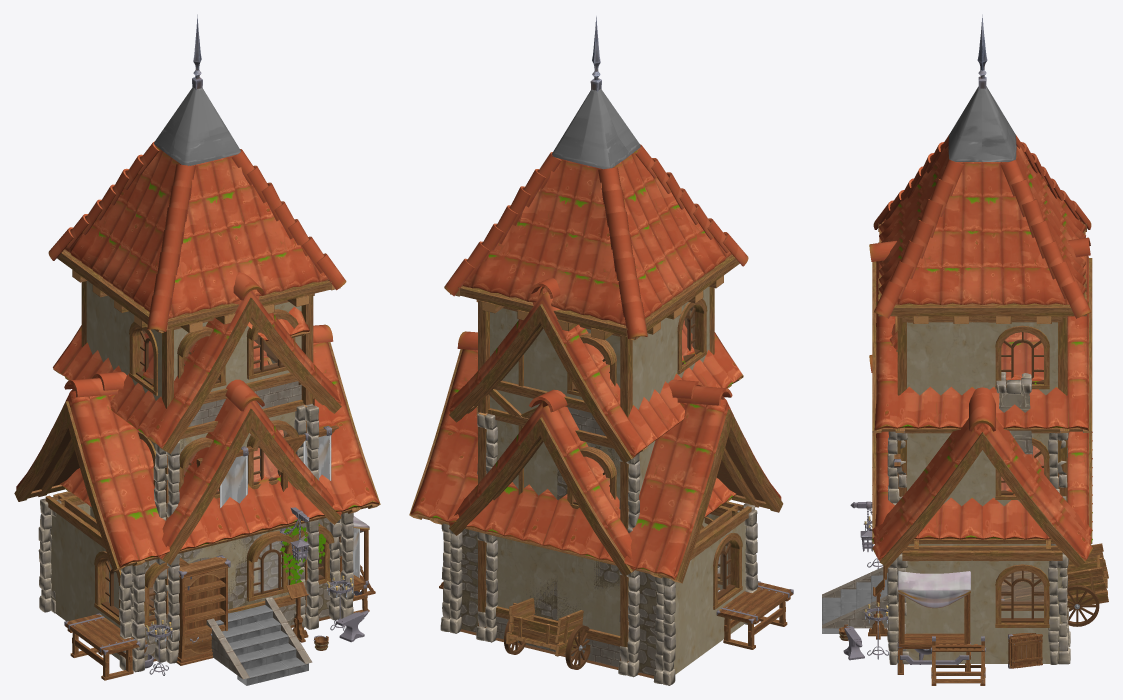
Rendered from village.glb.
3 views of the same model, side by side, from view 1: azimuth 30°, elevation 25°; view 2: azimuth 150°, elevation 25°; view 3: azimuth 270°, elevation 25° (orthographic). The views are drawn at different scales.
Parts seen in each view (by area): view 1: Roof_Tower_RoundTiles, Roof_RoundTiles_4x6, Roof_RoundTiles_4x4 (×2), Corner_Exterior_Brick (×7), Window_Wide_Round1 (×9), Wall_Plaster_Window_Wide_Round (×5), Stairs_Exterior_Straight, Wall_UnevenBrick_Straight, Bookcase_2, Wall_UnevenBrick_Window_Wide_Round (×3), Workbench, Wall_Plaster_Straight (+8 smaller); view 2: Roof_Tower_RoundTiles, Roof_RoundTiles_4x6, Roof_RoundTiles_4x4 (×2), Corner_Exterior_Brick (×7), Wall_Plaster_Straight (×3), Wall_Plaster_Straight_Base (×2), Wall_UnevenBrick_Straight (×4), Window_Wide_Round1 (×4), Prop_Wagon, Wall_UnevenBrick_Window_Wide_Round (×2), Wall_Plaster_Window_Wide_Round (×3), Corner_Exterior_Wood (×4) (+1 smaller); view 3: Roof_Tower_RoundTiles, Roof_RoundTiles_4x4 (×2), Roof_RoundTiles_4x6, Wall_Plaster_Straight (×2), Wall_UnevenBrick_Window_Wide_Round (×3), Wall_UnevenBrick_Straight, Corner_Exterior_Brick (×4), Window_Wide_Round1 (×4), Stall_Empty, Prop_Wagon, Stairs_Exterior_Straight, Wall_Plaster_Window_Wide_Round (+7 smaller).
Boxes of the visible parts, x1=… form: Roof_Tower_RoundTiles: x1=48, y1=14, x2=346, y2=332; Roof_RoundTiles_4x6: x1=14, y1=324, x2=380, y2=571; Roof_RoundTiles_4x4 (×2): x1=53, y1=272, x2=341, y2=564; Corner_Exterior_Brick (×7): x1=38, y1=403, x2=353, y2=672; Window_Wide_Round1 (×9): x1=94, y1=309, x2=334, y2=626; Wall_Plaster_Window_Wide_Round (×5): x1=124, y1=300, x2=304, y2=625; Stairs_Exterior_Straight: x1=206, y1=596, x2=312, y2=685; Wall_UnevenBrick_Straight: x1=45, y1=493, x2=96, y2=621; Bookcase_2: x1=176, y1=555, x2=230, y2=665; Wall_UnevenBrick_Window_Wide_Round (×3): x1=85, y1=518, x2=330, y2=659; Workbench: x1=64, y1=613, x2=140, y2=680; Wall_Plaster_Straight: x1=86, y1=281, x2=124, y2=372; Roof_Tower_RoundTiles: x1=444, y1=16, x2=748, y2=339; Roof_RoundTiles_4x6: x1=409, y1=331, x2=783, y2=583; Roof_RoundTiles_4x4 (×2): x1=448, y1=278, x2=743, y2=576; Corner_Exterior_Brick (×7): x1=440, y1=412, x2=757, y2=685; Wall_Plaster_Straight (×3): x1=486, y1=306, x2=670, y2=499; Wall_Plaster_Straight_Base (×2): x1=496, y1=536, x2=620, y2=667; Wall_UnevenBrick_Straight (×4): x1=460, y1=529, x2=710, y2=675; Window_Wide_Round1 (×4): x1=567, y1=298, x2=742, y2=609; Prop_Wagon: x1=504, y1=598, x2=590, y2=669; Wall_UnevenBrick_Window_Wide_Round (×2): x1=557, y1=430, x2=751, y2=651; Wall_Plaster_Window_Wide_Round (×3): x1=557, y1=286, x2=709, y2=500; Corner_Exterior_Wood (×4): x1=478, y1=300, x2=632, y2=662; Roof_Tower_RoundTiles: x1=873, y1=14, x2=1091, y2=323; Roof_RoundTiles_4x4 (×2): x1=869, y1=237, x2=1092, y2=543; Roof_RoundTiles_4x6: x1=872, y1=387, x2=1092, y2=567; Wall_Plaster_Straight (×2): x1=902, y1=316, x2=982, y2=506; Wall_UnevenBrick_Window_Wide_Round (×3): x1=982, y1=431, x2=1062, y2=663; Wall_UnevenBrick_Straight: x1=902, y1=545, x2=982, y2=663; Corner_Exterior_Brick (×4): x1=887, y1=431, x2=1070, y2=664; Window_Wide_Round1 (×4): x1=995, y1=325, x2=1049, y2=627; Stall_Empty: x1=897, y1=571, x2=971, y2=674; Prop_Wagon: x1=1001, y1=543, x2=1108, y2=626; Stairs_Exterior_Straight: x1=822, y1=567, x2=887, y2=633; Wall_Plaster_Window_Wide_Round: x1=982, y1=316, x2=1062, y2=395.
Size of the model in its own units: 8.51 by 16.64 by 7.15.
Materials: 13 (12 with a texture image).
